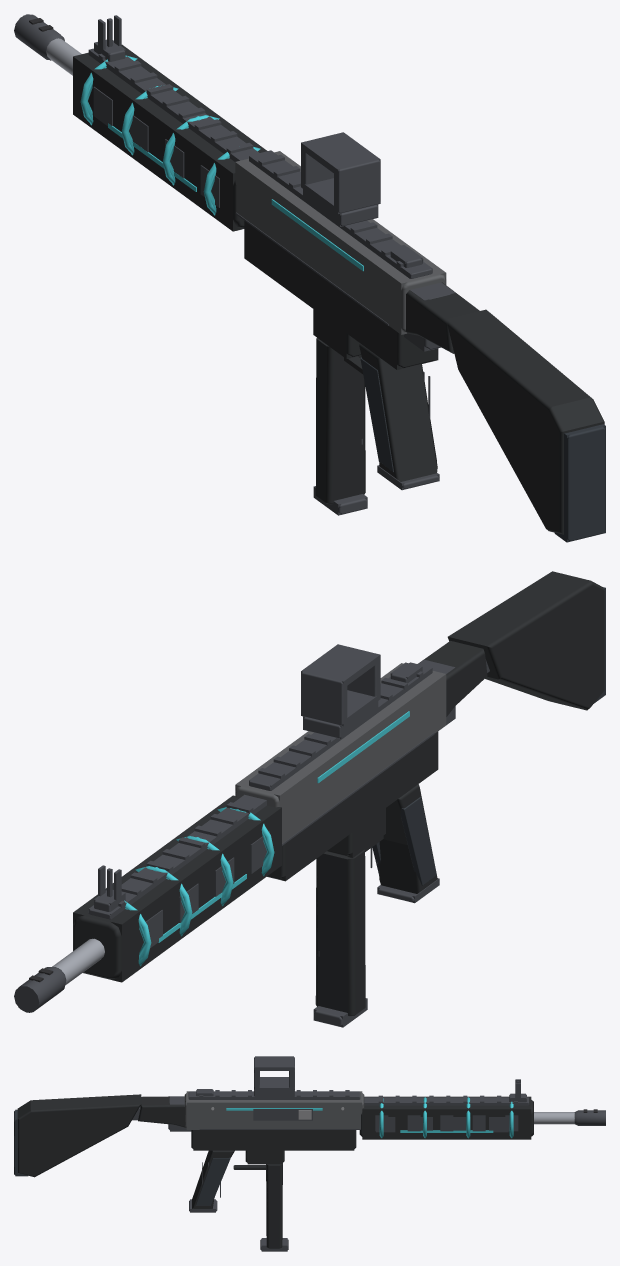
Rendered from a_voltage.glb.
3 views of the same model, one above another, from view 1: azimuth 30°, elevation 25°; view 2: azimuth 150°, elevation 25°; view 3: azimuth 270°, elevation 25° (orthographic). The views are drawn at different scales.
Visible parts, largest first — view 1: L0, L1; view 2: L0, L1; view 3: L0, L1.
Part boxes in pixels (x1,y1,x2,y2): L0: [14, 14, 605, 541]; L1: [15, 15, 605, 542]; L0: [14, 571, 605, 1026]; L1: [14, 587, 605, 1027]; L0: [14, 1057, 605, 1250]; L1: [15, 1056, 605, 1251].
Size of the model in its own units: 0.0664 by 0.3155 by 0.9108.
